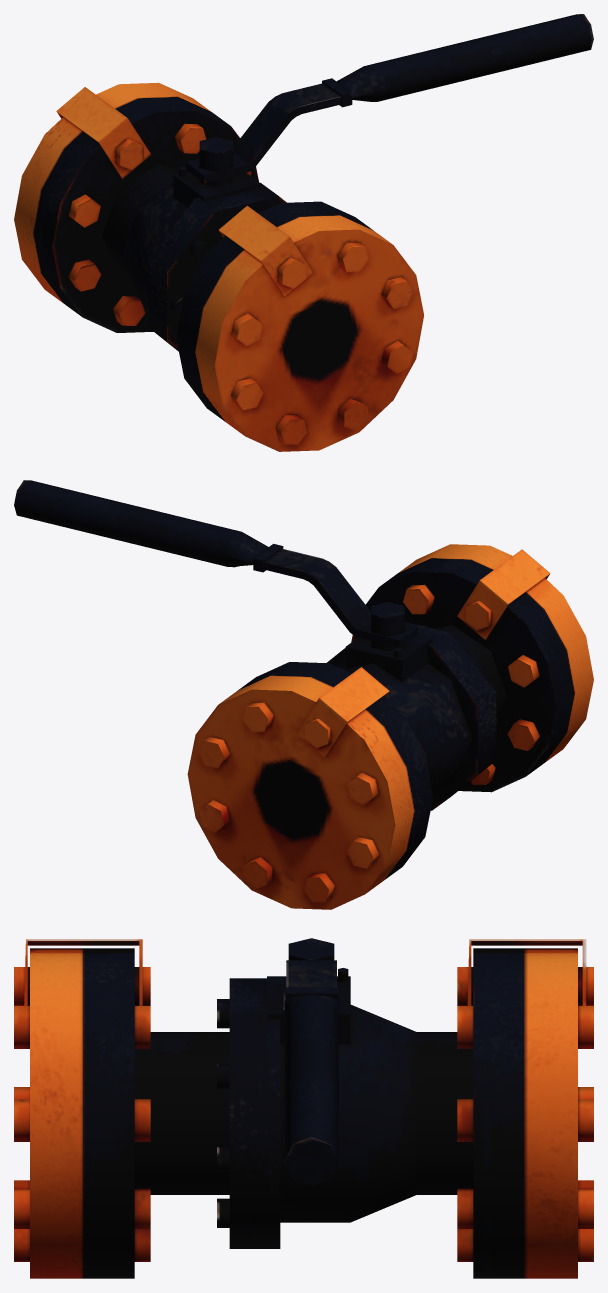
File: ManualValve9S1IN.fbx
3 views of the same model, one above another, from view 1: azimuth 30°, elevation 25°; view 2: azimuth 150°, elevation 25°; view 3: azimuth 270°, elevation 25° (orthographic). The views are drawn at different scales.
Parts seen in each view (by area): view 1: Body, Handle; view 2: Body, Handle; view 3: Body, Handle.
Part boxes in pixels (bbox=[...]): Body: bbox=[14, 82, 423, 451]; Handle: bbox=[186, 14, 593, 186]; Body: bbox=[187, 544, 593, 909]; Handle: bbox=[14, 480, 418, 651]; Body: bbox=[14, 939, 593, 1278]; Handle: bbox=[283, 938, 339, 1186].
Bounding box in the file's own units: 37.47 × 20.55 × 29.14.
1 material, 1 textured.
